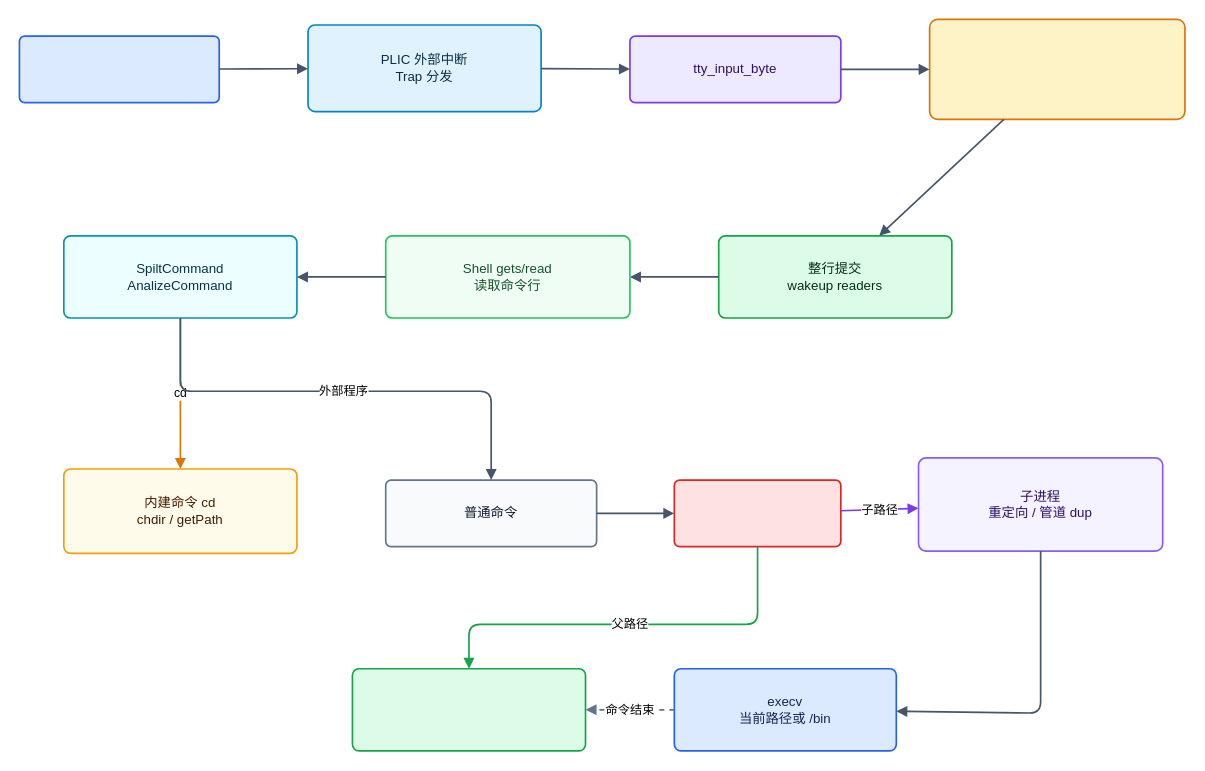
The diagram is 1205 pixels wide and 771 high, and some of its shapes have lost their labels. The centre of each missing label's shape, as x and y in pixels:
"fork" belongs at (x=757, y=513).
"TTY 行规程 规范输入 / 回显 / 信号" belongs at (x=1056, y=69).
"UART 输入字节" belongs at (x=119, y=69).
"父进程 wait 回到提示符" belongs at (x=468, y=709).
